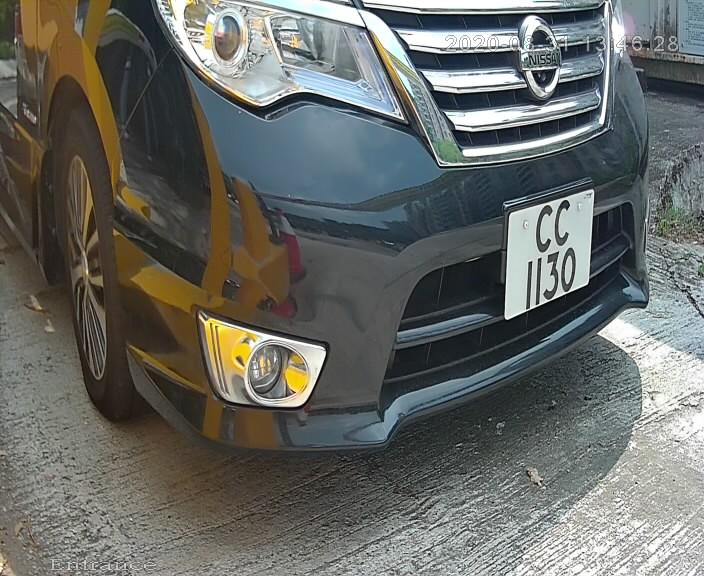License Plate: (503, 175, 595, 330)
